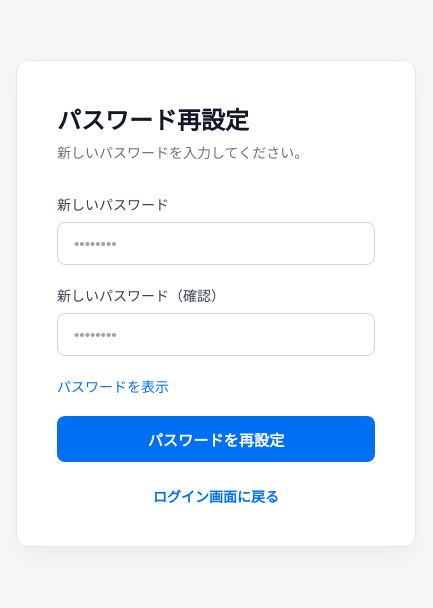
Test: ResetPasswordForm パスワード再設定処理 › 再設定回数が多すぎる場合、制限メッセージを表示すること
The width and height of the screenshot is (433, 608).
Type "password123" into the password field labelled "新しいパスワード".
click(216, 243); type("password123")  # box [57,222,375,264]
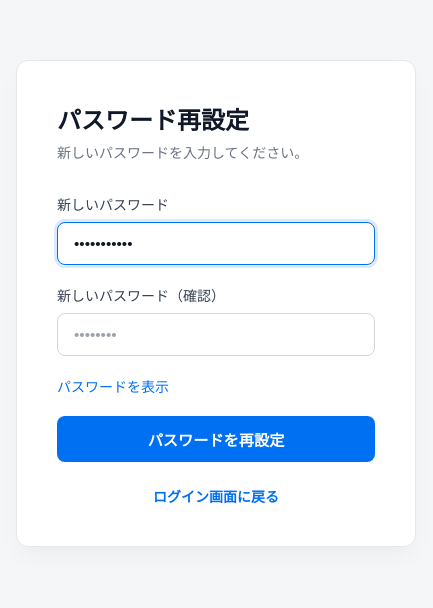
Type "password123" into the password field labelled "新しいパスワード（確認）".
click(216, 334); type("password123")  # box [57,312,375,356]
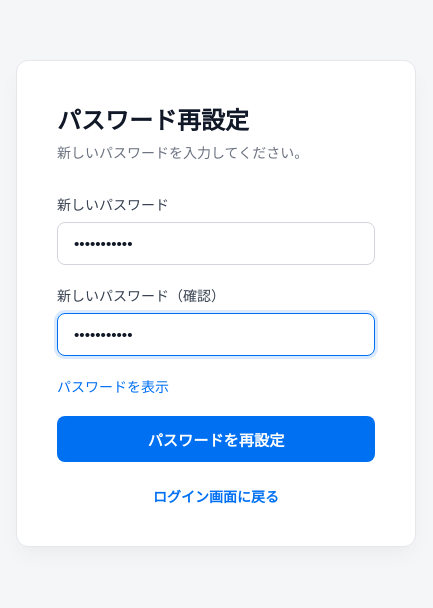
Click the button "パスワードを再設定".
click(216, 438)  # box [57,416,375,462]
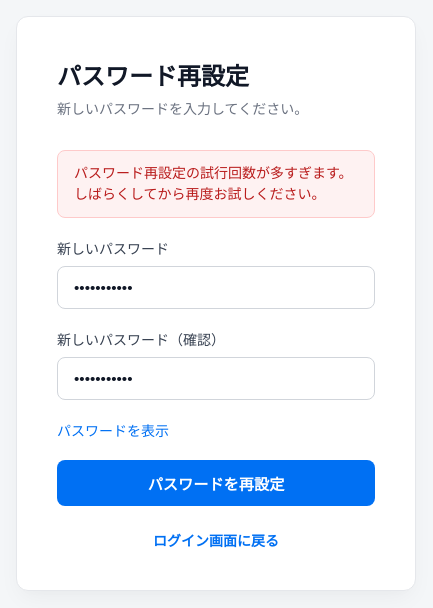
Check: the message reads "パスワード再設定の試行回数が多すぎます。しばらくしてから再度お試しください。", box [74,164,353,202]
